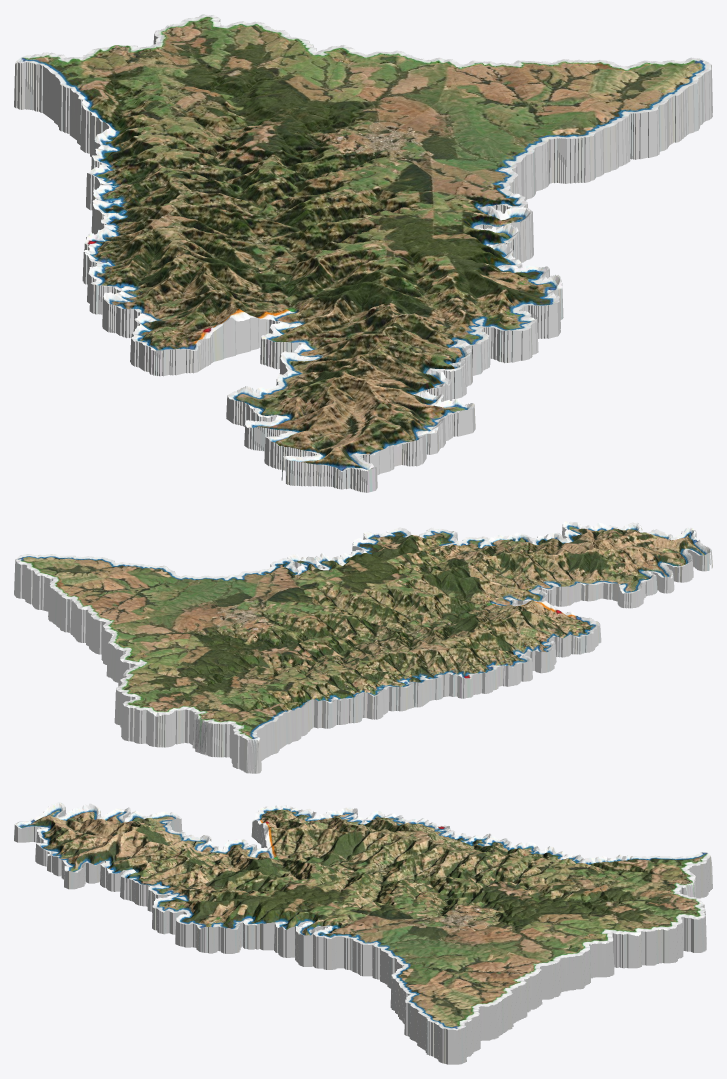
The picture shows the model from 3 angles, top to bottom: view 1: azimuth 30°, elevation 25°; view 2: azimuth 150°, elevation 25°; view 3: azimuth 270°, elevation 25°; orthographic projection. The views are drawn at different scales.
Bounding box in the file's own units: 1 × 0.0669 × 1.21.
Materials: 1 (1 with a texture image).
